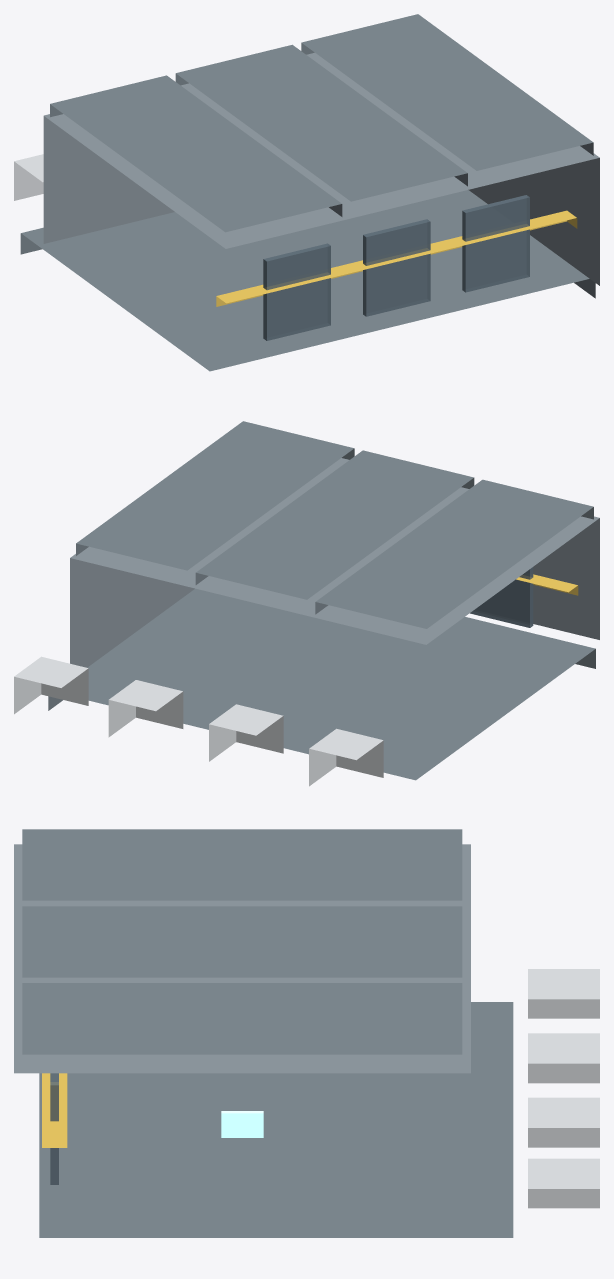
File: storage.glb
The picture shows the model from 3 angles, top to bottom: view 1: azimuth 30°, elevation 25°; view 2: azimuth 150°, elevation 25°; view 3: azimuth 270°, elevation 25°; orthographic projection. The views are drawn at different scales.
Parts seen in each view (by area): view 1: VH_StorageHub; view 2: VH_StorageHub; view 3: VH_StorageHub.
Part boxes in pixels (left/top/right/bottom): VH_StorageHub: left=14, top=14, right=599, bottom=371; VH_StorageHub: left=14, top=421, right=599, bottom=786; VH_StorageHub: left=14, top=829, right=599, bottom=1237.
Size of the model in its own units: 6.62 by 2.67 by 6.92.
